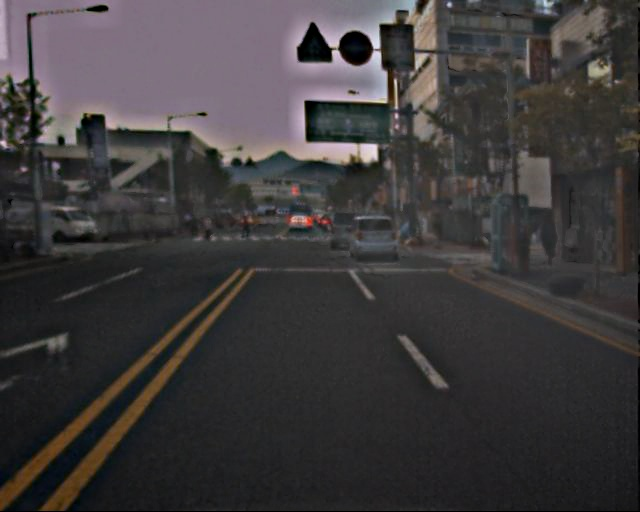person: (539, 213, 560, 265), (240, 214, 251, 242), (204, 216, 215, 242), (190, 213, 201, 239)
